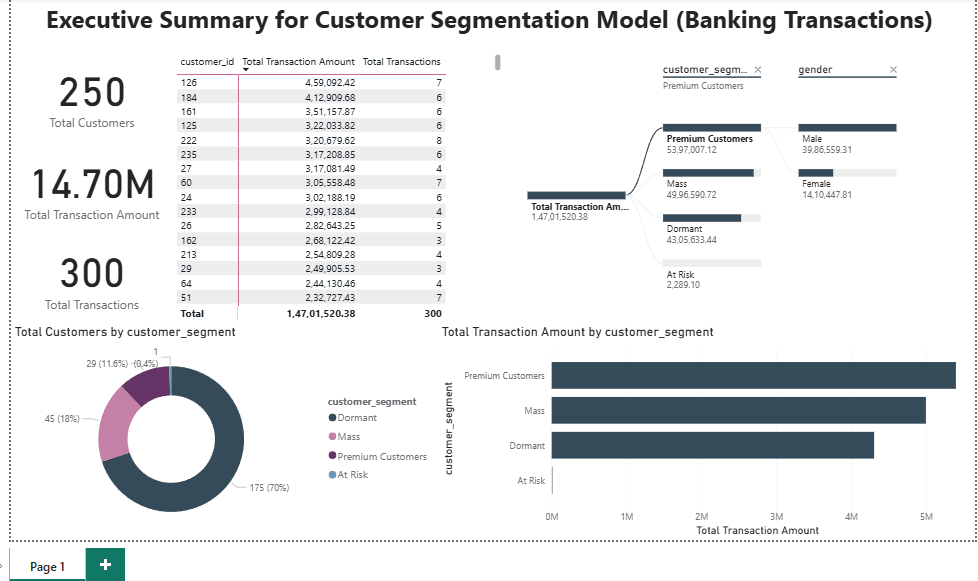

The dashboard page shown, as its layout file describes it:
{"tool":"powerbi","page":{"name":"Summary","canvas":[1280,720],"ordinal":0},"visuals":[{"type":"card","fields":{"Values":["Measure Table.Total Customers"]},"box":[0,68.7,215.1,116.5],"z":0},{"type":"card","fields":{"Values":["Measure Table.Total Transaction Amount"]},"box":[0,185.2,215.1,130],"z":1000},{"type":"card","fields":{"Values":["Measure Table.Total Transactions"]},"box":[0,304.7,215.1,128.5],"z":2000},{"type":"donutChart","fields":{"Category":["Bank_Customer_Segment_excel(Sheet).customer_segment"],"Y":["Measure Table.Total Customers"]},"box":[0,433.2,567.6,286.8],"z":3000},{"type":"barChart","fields":{"Category":["Bank_Customer_Segment_excel(Sheet).customer_segment"],"Y":["Measure Table.Total Transaction Amount"]},"box":[567.8,433.4,712.2,287.2],"z":4000},{"type":"decompositionTreeVisual","fields":{"Analyze":["Measure Table.Total Transaction Amount"],"ExplainBy":["Bank_Customer_Segment_excel(Sheet).customer_segment","Bank_Customer_Segment_excel(Sheet).gender"]},"box":[655.8,68.7,624.4,364.5],"z":5000},{"type":"textbox","box":[0,0,1280.2,68.7],"z":6000},{"type":"pivotTable","fields":{"Rows":["Bank_Customer_Segment_excel(Sheet).customer_id"],"Values":["Measure Table.Total Transaction Amount","Measure Table.Total Transactions"]},"box":[215.1,68.7,440.7,364.5],"z":7000}]}

Visuals, with their boxes on the page's 1280x720 design canvas (x1, y1, x2, y2). These are canvas units, not pixel positions in the 978x581 screenshot, which may show the page scaled, cropped or inside an application window:
card - Measure Table.Total Customers: Rect(0, 69, 215, 185)
card - Measure Table.Total Transaction Amount: Rect(0, 185, 215, 315)
card - Measure Table.Total Transactions: Rect(0, 305, 215, 433)
donutChart - Bank_Customer_Segment_excel(Sheet).customer_segment x Measure Table.Total Customers: Rect(0, 433, 568, 720)
barChart - Bank_Customer_Segment_excel(Sheet).customer_segment x Measure Table.Total Transaction Amount: Rect(568, 433, 1280, 721)
decompositionTreeVisual - Measure Table.Total Transaction Amount x Bank_Customer_Segment_excel(Sheet).customer_segment: Rect(656, 69, 1280, 433)
textbox: Rect(0, 0, 1280, 69)
pivotTable - Bank_Customer_Segment_excel(Sheet).customer_id x Measure Table.Total Transaction Amount: Rect(215, 69, 656, 433)
